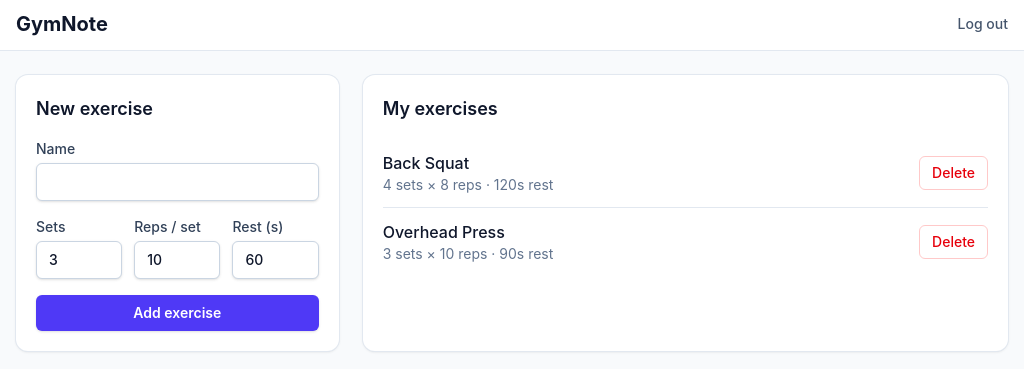
Scenario: ExercisesPage › deletes an exercise after confirmation
Click the button with aria-label "Delete Back Squat": x=954, y=173 919,156 -> 988,190
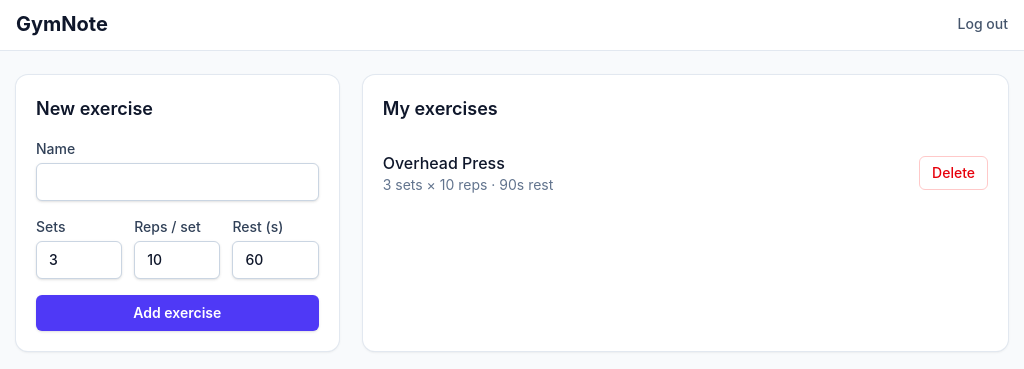
Expected: the text "Overhead Press" is shown, 383,153 -> 505,173
Expected: the text "Back Squat" is gone
